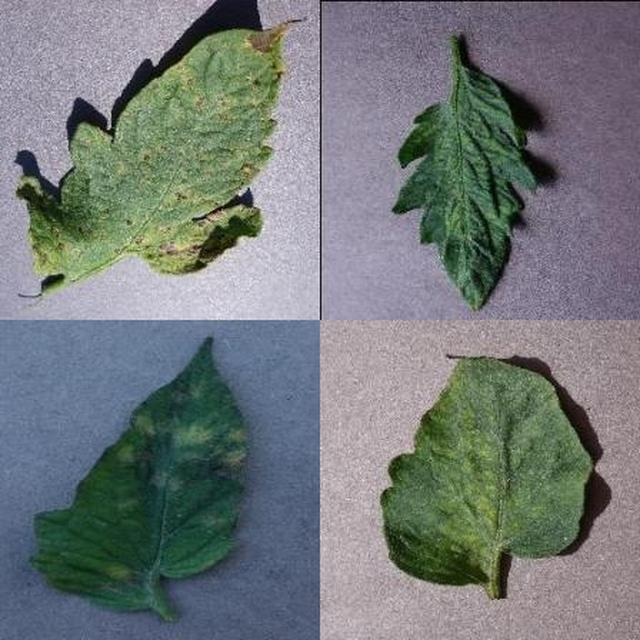Septoria Leaf: (203, 216, 640, 640)
